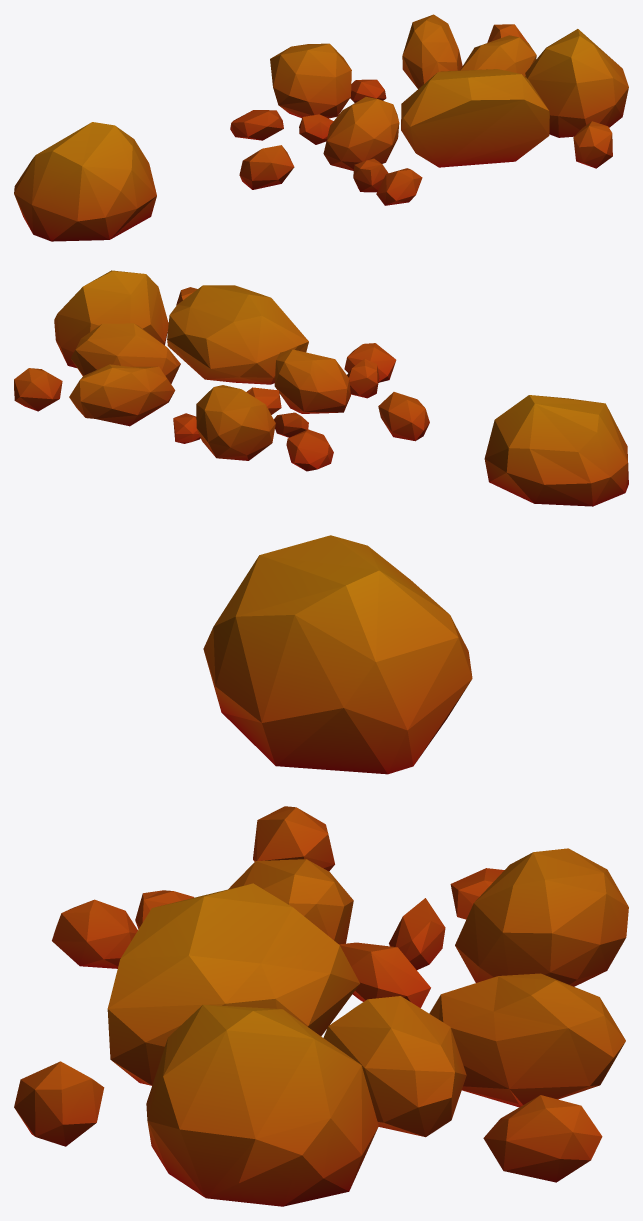
File: rubble.glb
3 views of the same model, one above another, from view 1: azimuth 30°, elevation 25°; view 2: azimuth 150°, elevation 25°; view 3: azimuth 270°, elevation 25° (orthographic). The views are drawn at different scales.
Parts seen in each view (by area): view 1: rubble; view 2: rubble; view 3: rubble.
Part boxes in pixels (x1,y1,x2,y2): rubble: (14,14,628,241); rubble: (14,270,628,506); rubble: (14,535,628,1206).
Size of what is drawn, in the model's own units: 4.22 by 0.5822 by 1.97.
